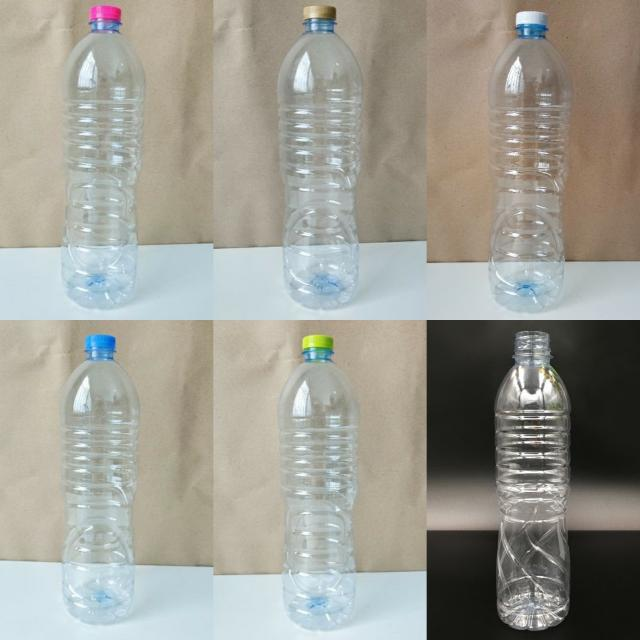plastik: (278, 5, 362, 309), (61, 6, 145, 309), (489, 11, 572, 312), (278, 335, 360, 629), (60, 334, 140, 624), (495, 332, 570, 630)
